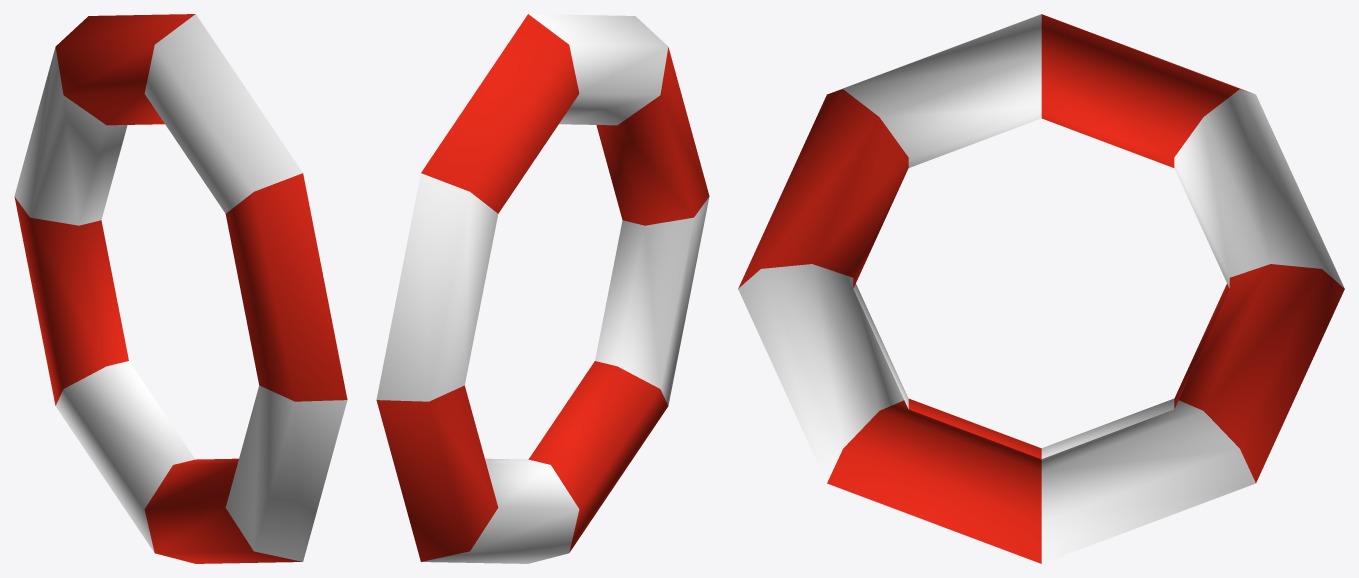
Rendered from lifesaver.fbx.
3 renders of one model, left to right at view 1: azimuth 30°, elevation 25°; view 2: azimuth 150°, elevation 25°; view 3: azimuth 270°, elevation 25°, orthographic.
Parts seen in each view (by area): view 1: lifesaver; view 2: lifesaver; view 3: lifesaver.
Boxes of the visible parts, x1,y1,x2,y2 form: lifesaver: (14, 14, 347, 563); lifesaver: (376, 14, 709, 563); lifesaver: (738, 14, 1344, 563).
Size of the model in its own units: 12.74 by 131 by 131.
